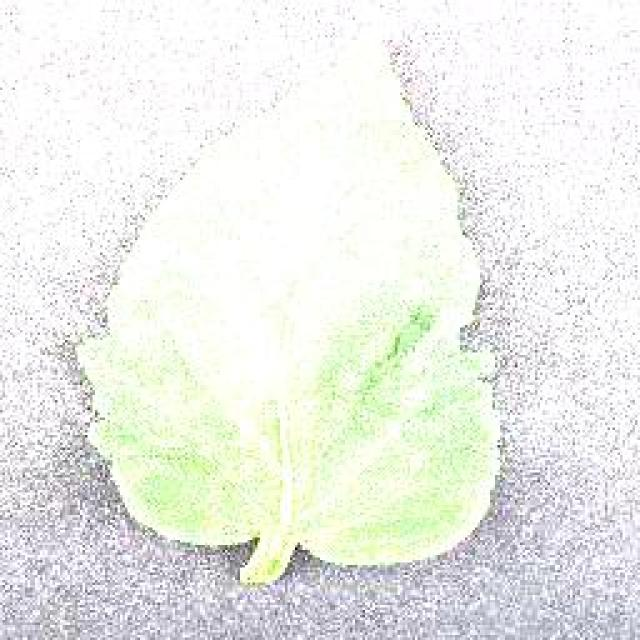Tomato___healthy: (70, 24, 500, 586)
